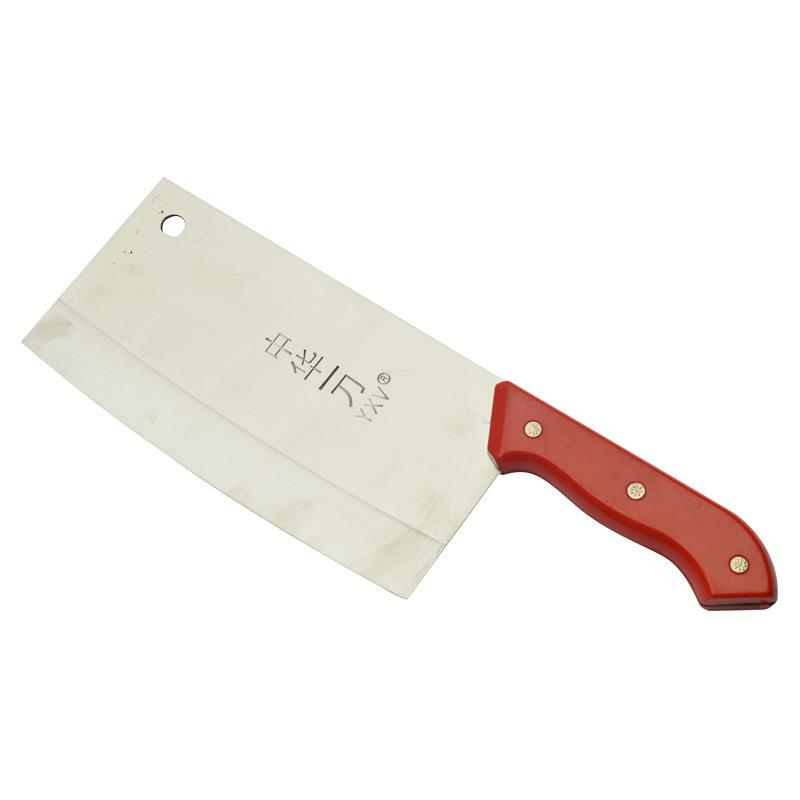knief: (20, 160, 781, 617)
